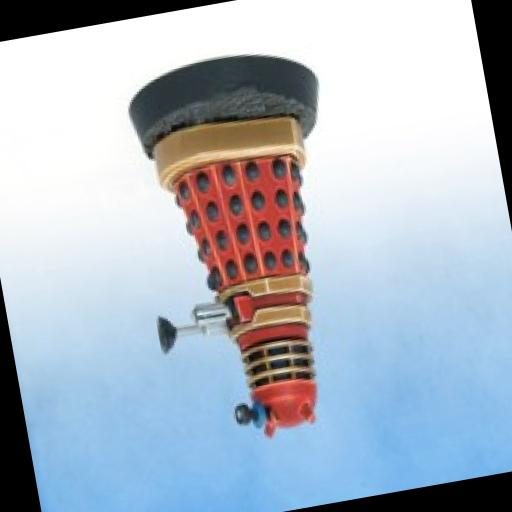dalek: (109, 102, 368, 456)
